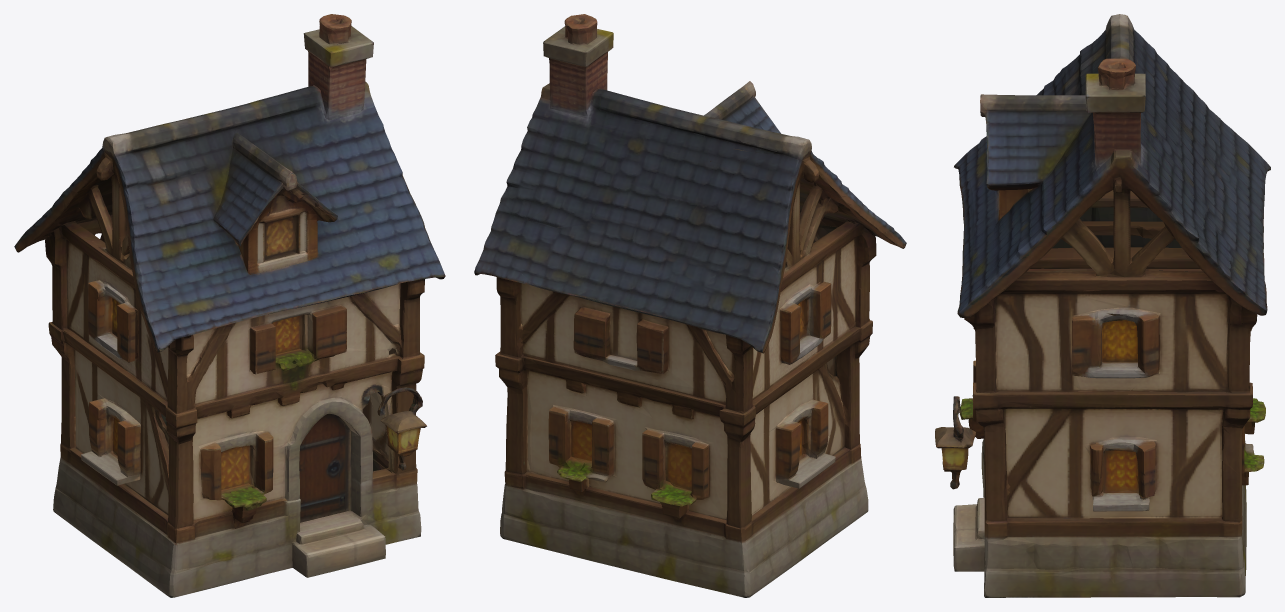
Rendered from townhouse-b.glb.
The picture shows the model from 3 angles, left to right: view 1: azimuth 30°, elevation 25°; view 2: azimuth 150°, elevation 25°; view 3: azimuth 270°, elevation 25°; orthographic projection. The views are drawn at different scales.
Parts seen in each view (by area): view 1: geometry_0; view 2: geometry_0; view 3: geometry_0.
Part boxes in pixels (x1=…): geometry_0: x1=14, y1=14, x2=445, y2=597; geometry_0: x1=474, y1=14, x2=906, y2=597; geometry_0: x1=935, y1=14, x2=1270, y2=597.
Bounding box in the file's own units: 0.6335 × 1 × 0.5851.
1 material, 1 textured.
